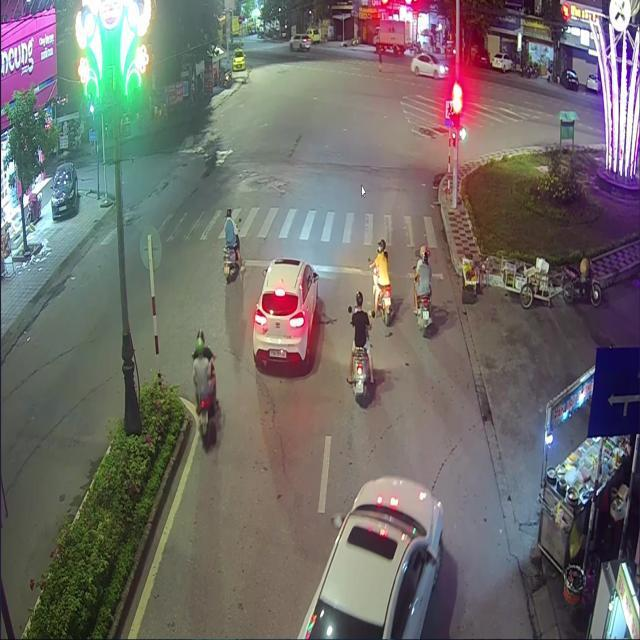car: (297, 476, 442, 638), (251, 257, 318, 374)
motobike: (195, 398, 216, 448), (352, 350, 366, 405), (377, 283, 392, 329), (223, 246, 244, 276), (417, 295, 430, 338)
red_light: (452, 97, 459, 127)
stop_line: (231, 258, 442, 280)
